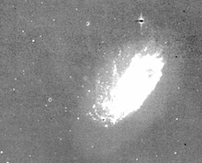Halpha: (91, 30, 128, 96), (76, 99, 119, 136)
